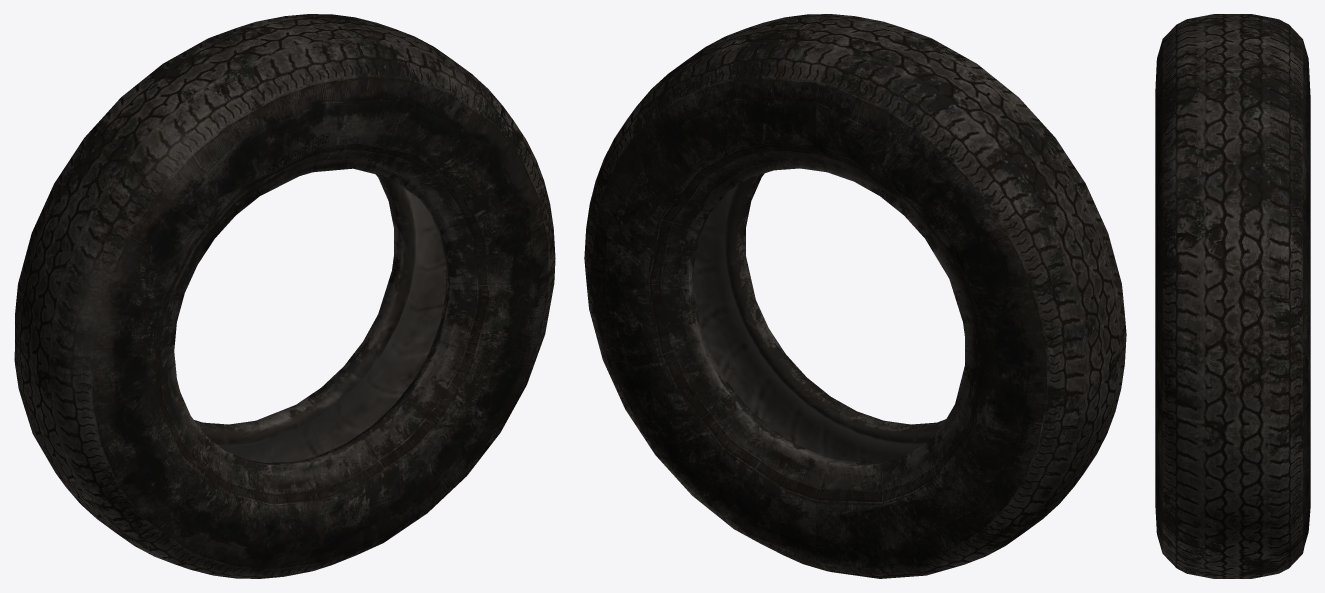
The model's file is tyre.glb.
3 renders of one model, left to right at view 1: azimuth 30°, elevation 25°; view 2: azimuth 150°, elevation 25°; view 3: azimuth 270°, elevation 25°, orthographic. The views are drawn at different scales.
Visible parts, largest first — view 1: old_tyre; view 2: old_tyre; view 3: old_tyre.
Part boxes in pixels (box(x1,y1,x2,y2)): old_tyre: box(14, 14, 555, 578); old_tyre: box(584, 14, 1126, 578); old_tyre: box(1155, 14, 1310, 578).
Size of the model in its own units: 0.6 by 0.6 by 0.165.
Materials: 1 (1 with a texture image).
